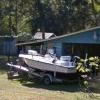Boat: (15, 44, 79, 90)
